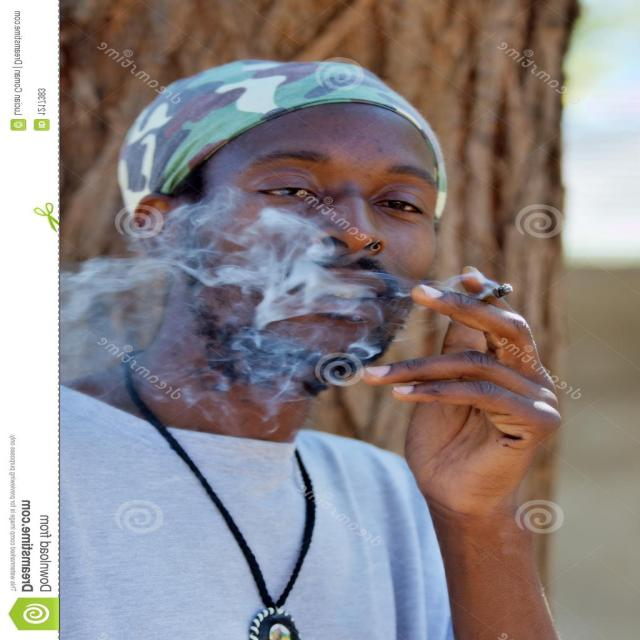smoking: (125, 52, 557, 434)
